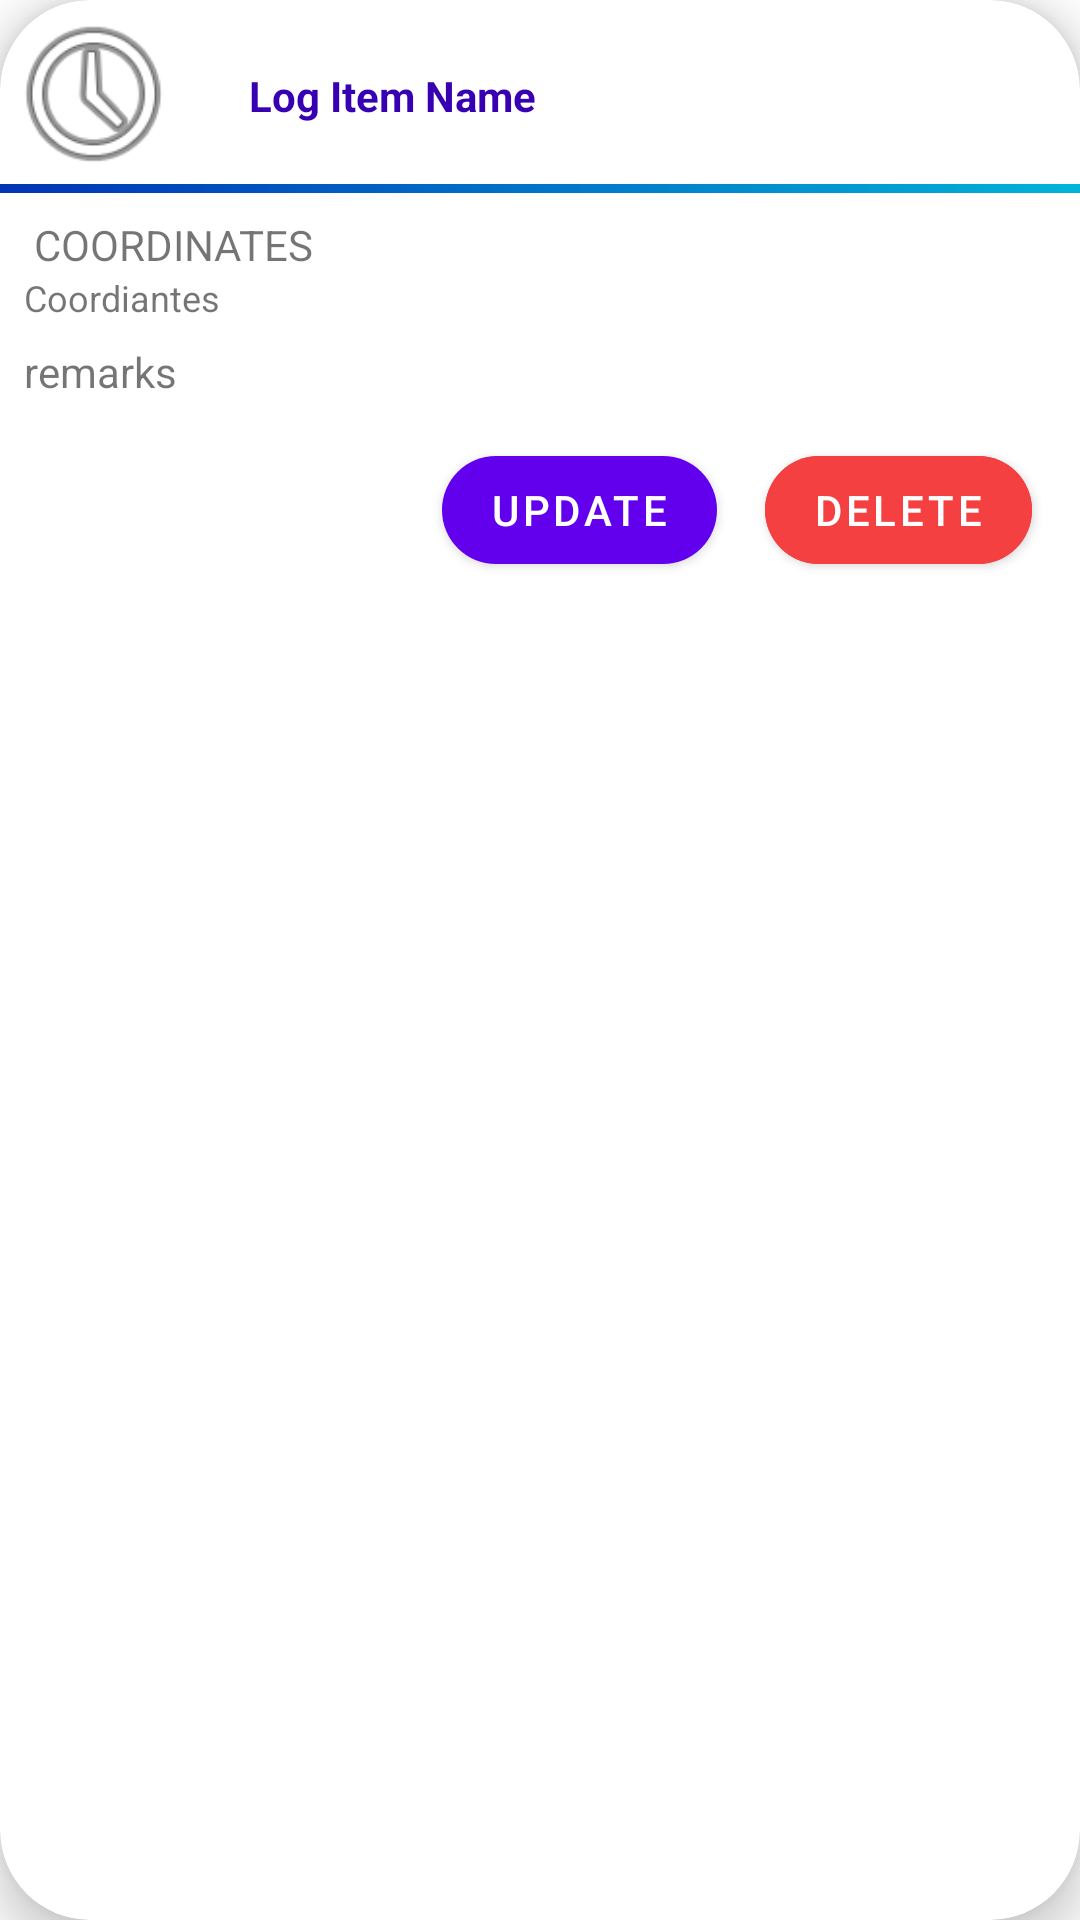

Icon click points for this 1080 x 1920 phone screenshot, format (x=x, y=y):
recent history: (x=94, y=93)
